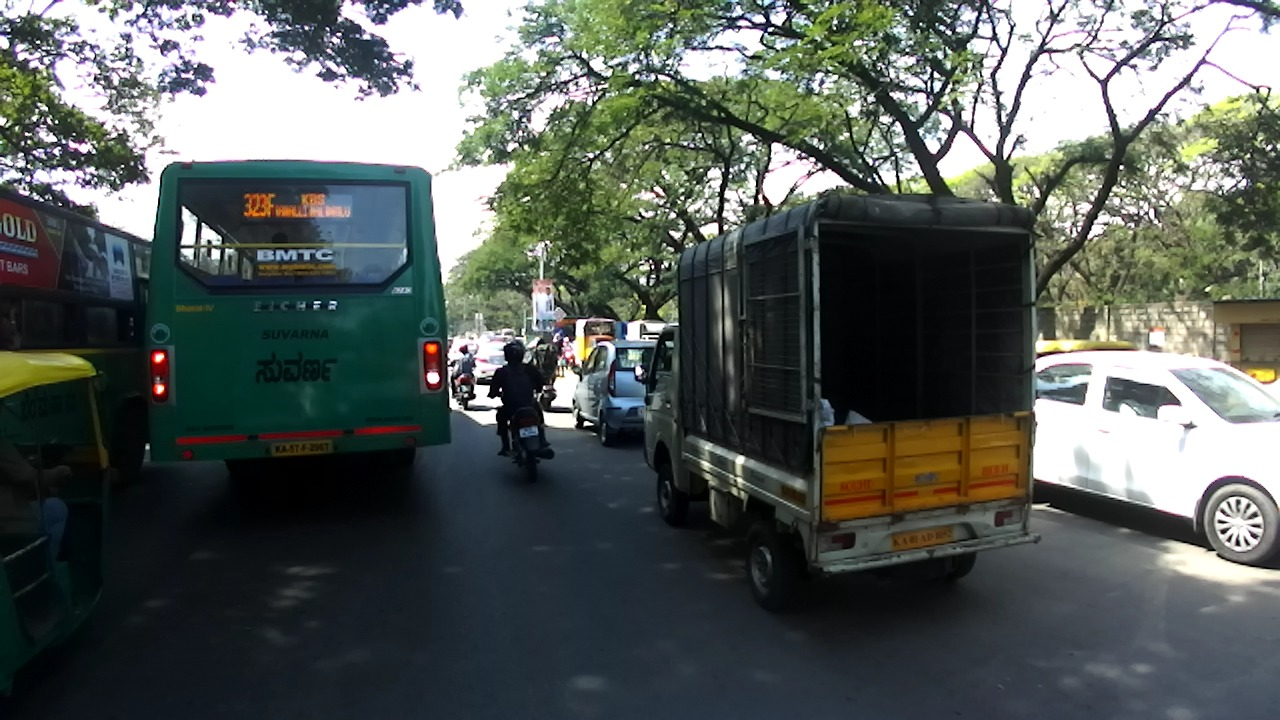autorickshaw: (1, 350, 111, 697), (1035, 339, 1137, 361), (575, 316, 615, 372)
bus: (145, 158, 451, 477), (1, 190, 154, 488)
car: (1031, 351, 1280, 566), (571, 339, 659, 446), (471, 342, 509, 385), (447, 340, 478, 366)
motorcycle: (487, 389, 556, 484), (447, 364, 476, 410), (532, 375, 557, 411), (557, 337, 576, 371)
rider: (488, 342, 551, 456), (525, 337, 556, 392), (450, 344, 476, 398), (552, 328, 564, 359), (563, 336, 571, 347)
truck: (633, 192, 1042, 609), (521, 308, 589, 355), (625, 319, 672, 343)
vehicle fallback: (617, 320, 633, 343), (477, 335, 511, 345), (501, 327, 516, 340), (481, 329, 495, 342), (447, 336, 454, 352)
